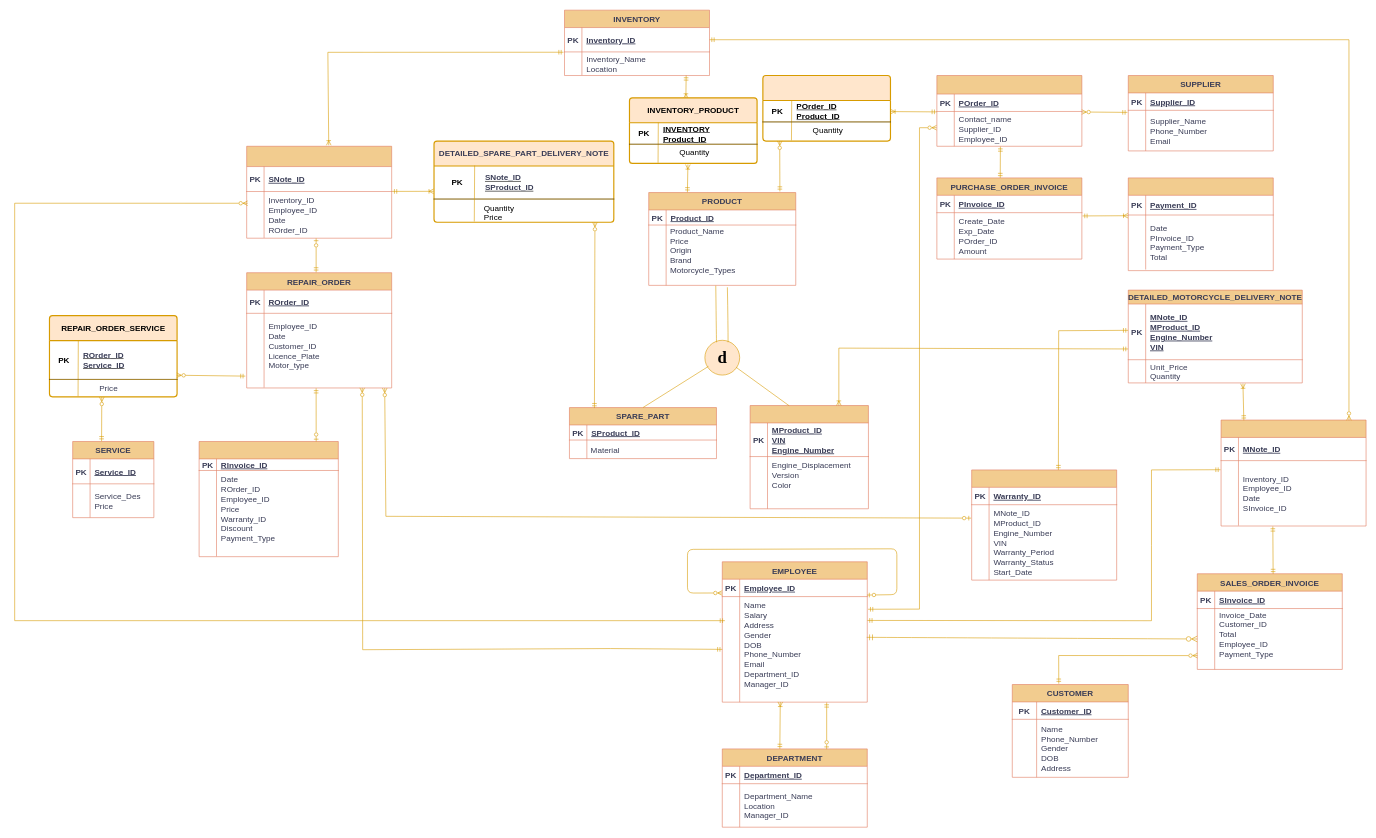
Some shapes in this 1376 by 838 pixel diagram are drawn without their labels. Here are the shapes that lost their labels. From the top down, the box of each, then its label:
(762, 75, 891, 141): PURCHASE_ORDER_LINE
(936, 75, 1082, 146): PURCHASE_ORDER
(246, 146, 392, 238): SPARE_PART_DELIVERY_NOTE
(1128, 177, 1273, 271): PAYMENT_PURCHASE_ORDER
(750, 405, 868, 509): MOTORCYCLE
(1220, 419, 1366, 526): MOTORCYCLE_DELIVERY_NOTE
(199, 441, 338, 557): REPAIR_INVOICE
(971, 469, 1117, 580): WARRANTY_CARD
